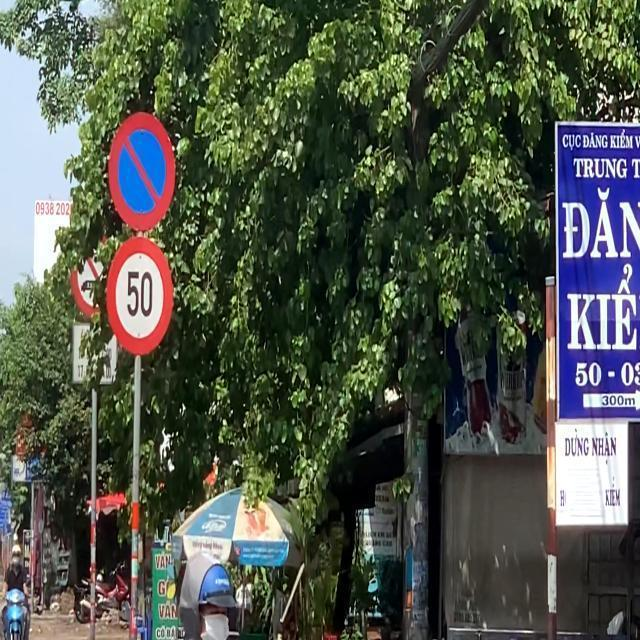127-toc-do-toi-da-50: (105, 238, 173, 356)
131a-cam-do-xe: (106, 112, 176, 228)
